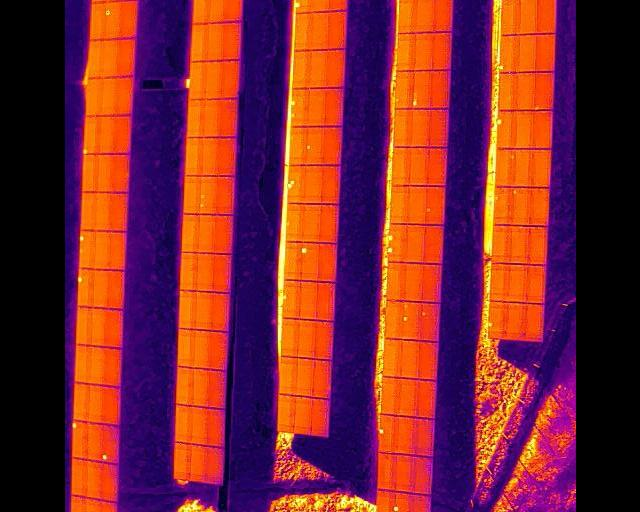Cell: (425, 186, 445, 225), (492, 187, 512, 226), (419, 303, 438, 341), (498, 35, 516, 75), (412, 70, 430, 109), (305, 127, 323, 165), (511, 188, 529, 226), (495, 149, 513, 187), (285, 204, 302, 243), (282, 280, 299, 318), (301, 243, 318, 281), (101, 425, 118, 462), (496, 111, 512, 149), (71, 422, 87, 459), (488, 302, 504, 339), (77, 268, 92, 307), (104, 1, 119, 39), (83, 116, 98, 154), (379, 415, 393, 454), (297, 0, 312, 13)
Cell-Multi: (399, 301, 418, 341), (199, 177, 217, 215), (286, 166, 303, 205), (389, 223, 405, 262), (78, 230, 94, 269), (291, 89, 306, 127), (391, 492, 408, 512)
No-Anomaly: (515, 34, 537, 73), (401, 263, 422, 302), (321, 127, 342, 166), (413, 417, 433, 457), (393, 416, 413, 456), (390, 453, 410, 493), (526, 227, 547, 265), (534, 34, 554, 73), (415, 342, 435, 381), (404, 225, 424, 264), (395, 377, 415, 416), (294, 359, 314, 398), (514, 72, 534, 111), (506, 263, 525, 303), (531, 111, 550, 150), (530, 149, 549, 188), (526, 265, 545, 304), (415, 379, 434, 418), (324, 88, 343, 127), (320, 165, 339, 204), (315, 282, 334, 321), (313, 360, 332, 399), (512, 149, 531, 188), (203, 447, 223, 484), (504, 303, 524, 340), (210, 293, 229, 331), (179, 215, 198, 253), (524, 303, 543, 341), (413, 33, 432, 71), (411, 456, 430, 494), (407, 185, 425, 225), (328, 11, 346, 51), (310, 399, 330, 435), (529, 189, 548, 226), (177, 253, 196, 290), (432, 32, 450, 71), (427, 147, 445, 186), (221, 60, 239, 99), (219, 98, 237, 137), (213, 216, 231, 255), (421, 264, 439, 303), (409, 147, 427, 186), (319, 204, 337, 243), (314, 321, 332, 360), (306, 89, 324, 128), (301, 204, 319, 243), (299, 281, 317, 320), (513, 111, 531, 150), (493, 225, 511, 264), (534, 72, 553, 108), (210, 332, 228, 370), (177, 291, 195, 329), (175, 329, 193, 367), (175, 367, 193, 405), (102, 349, 120, 387), (411, 109, 429, 147), (318, 244, 336, 282), (309, 50, 327, 88), (508, 226, 526, 264), (115, 77, 132, 117), (536, 0, 555, 35), (281, 318, 298, 357), (196, 253, 213, 292), (193, 330, 210, 369), (111, 154, 128, 193), (108, 231, 125, 270), (106, 270, 123, 309), (105, 310, 122, 349), (399, 340, 416, 379), (390, 185, 407, 224), (327, 49, 344, 88), (311, 13, 328, 52), (304, 166, 321, 205), (100, 463, 117, 502), (498, 72, 515, 111), (294, 397, 312, 433), (430, 71, 447, 109), (279, 357, 296, 395), (216, 177, 233, 215), (213, 254, 230, 292), (208, 370, 225, 408), (207, 409, 224, 447), (190, 407, 207, 445), (186, 99, 203, 137), (182, 176, 199, 214), (119, 2, 136, 40), (117, 39, 134, 77), (113, 117, 130, 155), (110, 193, 127, 231), (394, 109, 411, 147), (393, 147, 410, 185), (297, 321, 314, 359), (294, 13, 310, 53), (424, 226, 441, 263), (218, 137, 234, 176), (201, 138, 217, 177), (174, 404, 190, 443), (396, 70, 412, 109), (383, 338, 399, 377), (289, 127, 305, 166), (103, 386, 119, 425), (96, 154, 112, 193), (277, 395, 294, 431), (519, 0, 536, 36), (501, 0, 518, 36), (432, 0, 451, 32), (198, 215, 214, 253), (192, 369, 208, 407), (86, 461, 102, 499), (72, 383, 88, 421), (87, 384, 102, 424), (429, 109, 445, 146), (222, 23, 238, 60), (205, 61, 221, 98), (191, 24, 207, 61), (172, 443, 188, 480), (397, 33, 413, 70), (196, 292, 211, 331), (186, 137, 201, 176), (384, 300, 399, 339), (376, 452, 391, 491), (100, 77, 115, 116), (94, 231, 109, 270), (92, 269, 107, 308), (90, 307, 105, 346), (89, 2, 104, 41), (75, 305, 90, 344), (72, 458, 87, 497), (398, 0, 415, 34), (188, 445, 204, 481), (415, 0, 433, 32), (285, 243, 300, 281), (204, 99, 219, 137), (190, 61, 205, 99), (293, 51, 308, 89), (98, 116, 113, 154), (96, 193, 111, 231), (88, 346, 103, 384), (81, 154, 96, 192), (80, 193, 95, 231), (73, 345, 88, 383), (490, 263, 505, 301), (207, 23, 222, 60), (102, 40, 117, 77), (87, 424, 102, 461), (89, 40, 103, 77), (387, 262, 400, 301), (87, 77, 100, 116), (381, 376, 394, 414), (192, 0, 210, 25), (210, 0, 225, 24), (408, 494, 428, 512), (225, 0, 241, 22), (375, 489, 390, 512), (70, 496, 85, 512), (311, 0, 328, 14), (328, 0, 347, 12), (85, 498, 100, 512), (99, 502, 116, 512)
